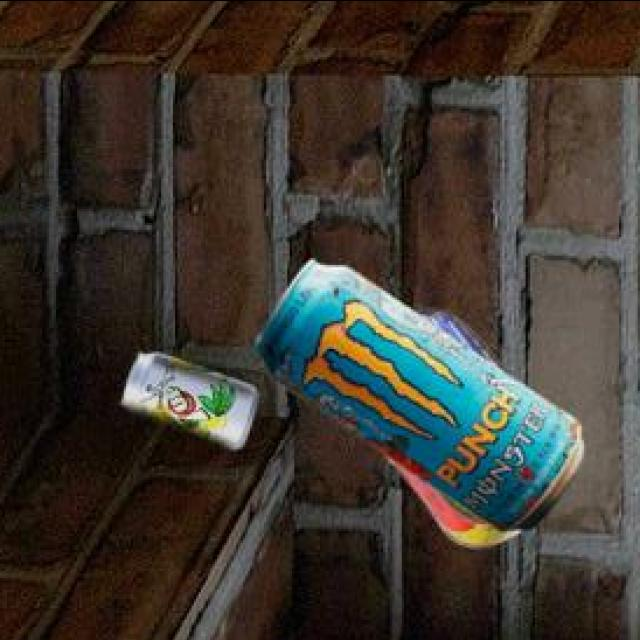logam: (256, 256, 585, 527), (394, 305, 527, 543), (125, 349, 263, 445)
